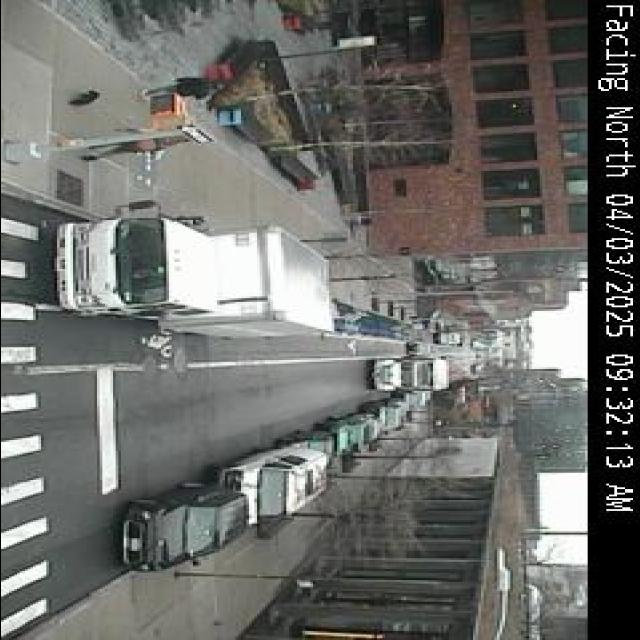parkedCars: (122, 449, 304, 589), (296, 403, 401, 491)
